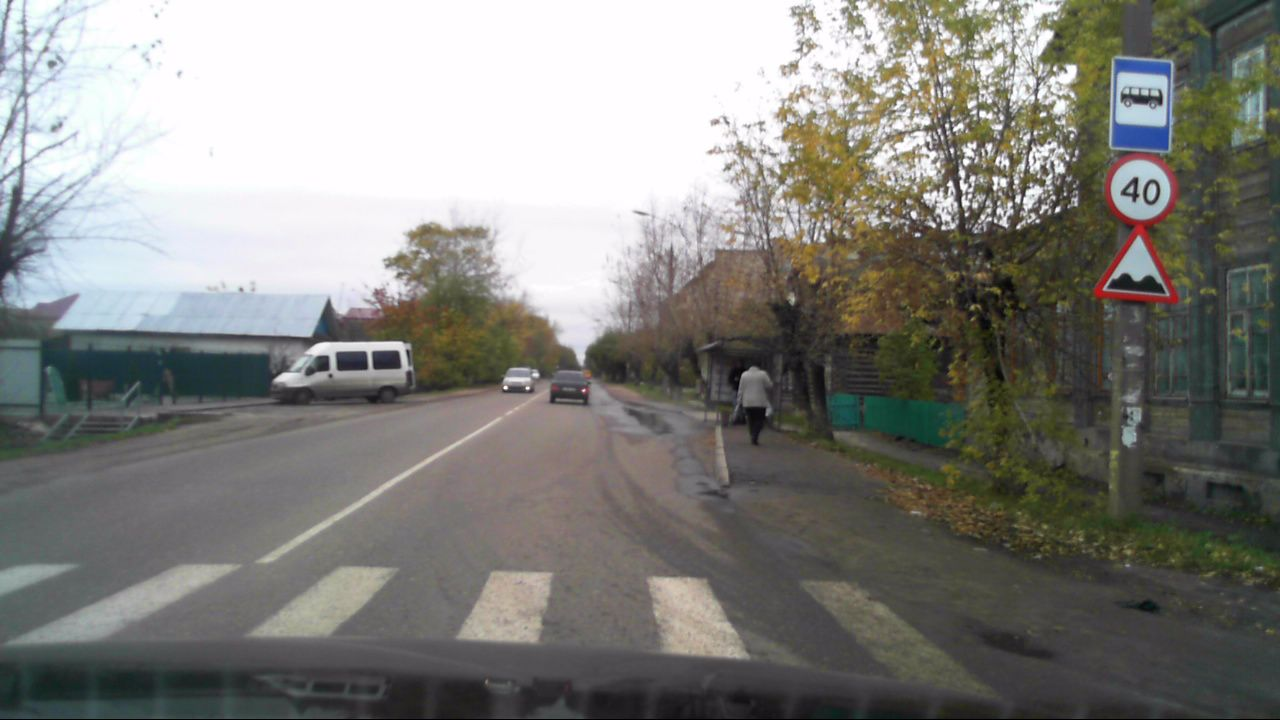speed_warning_40: (1102, 151, 1177, 227)
